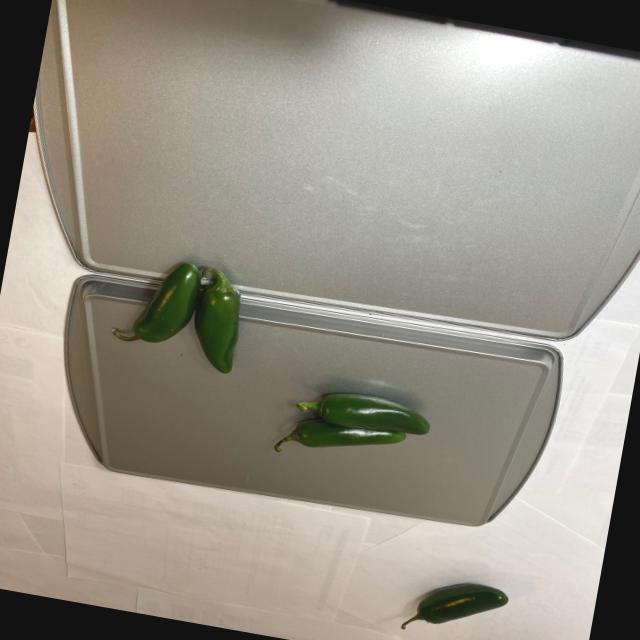chilli: (104, 242, 259, 380), (266, 378, 437, 480), (385, 556, 521, 640)
